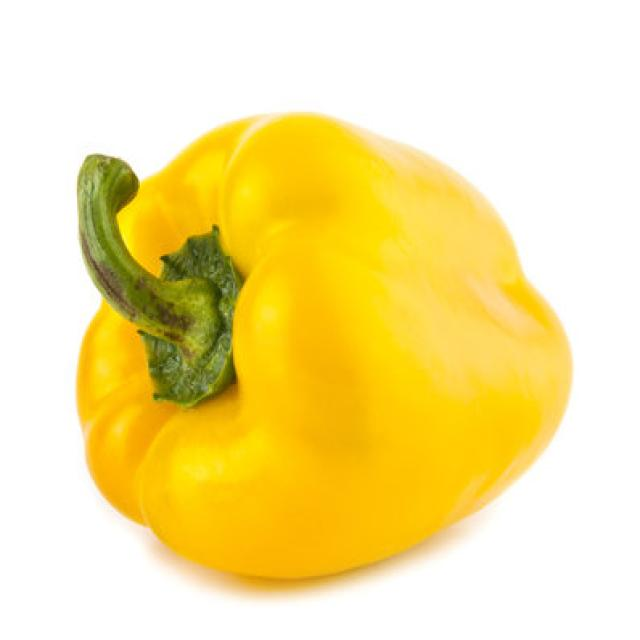Bottle Gourd: (72, 109, 574, 582)
